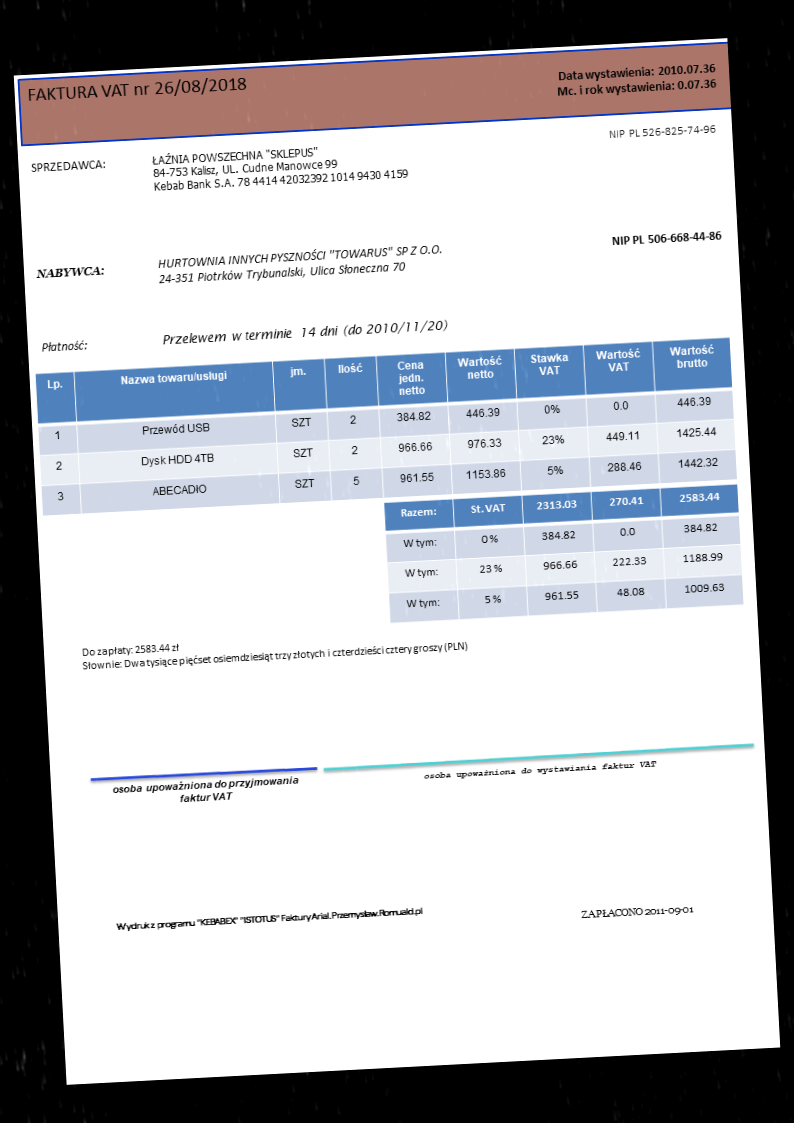Table: (34, 335, 739, 517), (382, 483, 745, 625)
TextBox: (80, 624, 470, 674), (149, 138, 411, 194), (155, 240, 445, 286), (113, 904, 426, 934), (161, 318, 451, 347), (25, 74, 249, 106), (111, 774, 303, 808), (553, 60, 720, 99), (421, 757, 659, 782), (578, 901, 697, 922), (609, 228, 725, 249), (607, 122, 719, 142), (28, 155, 108, 174), (34, 263, 108, 281), (38, 338, 89, 354)
